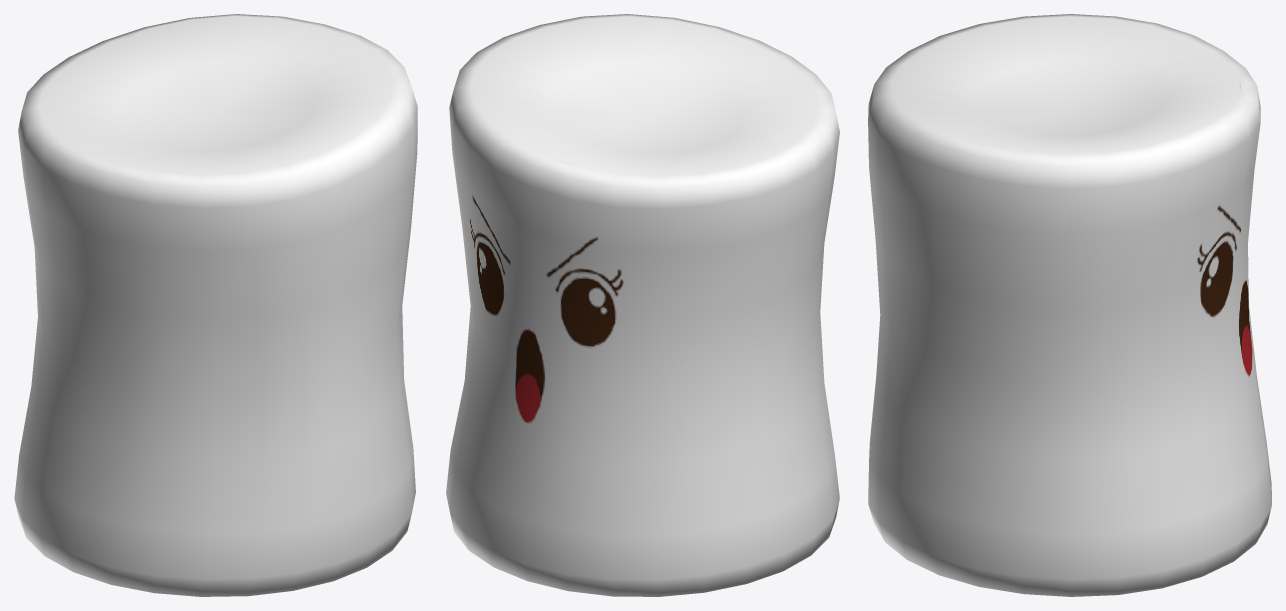
The model's file is Marsh_demo.FBX.
The picture shows the model from 3 angles, left to right: view 1: azimuth 30°, elevation 25°; view 2: azimuth 150°, elevation 25°; view 3: azimuth 270°, elevation 25°; orthographic projection. The views are drawn at different scales.
Visible parts, largest first — view 1: Cylinder002; view 2: Cylinder002; view 3: Cylinder002.
Part boxes in pixels (bbox=[...]): Cylinder002: bbox=[14, 14, 417, 596]; Cylinder002: bbox=[446, 14, 839, 596]; Cylinder002: bbox=[868, 14, 1271, 596].
Bounding box in the file's own units: 5.42 × 6.49 × 5.36.
